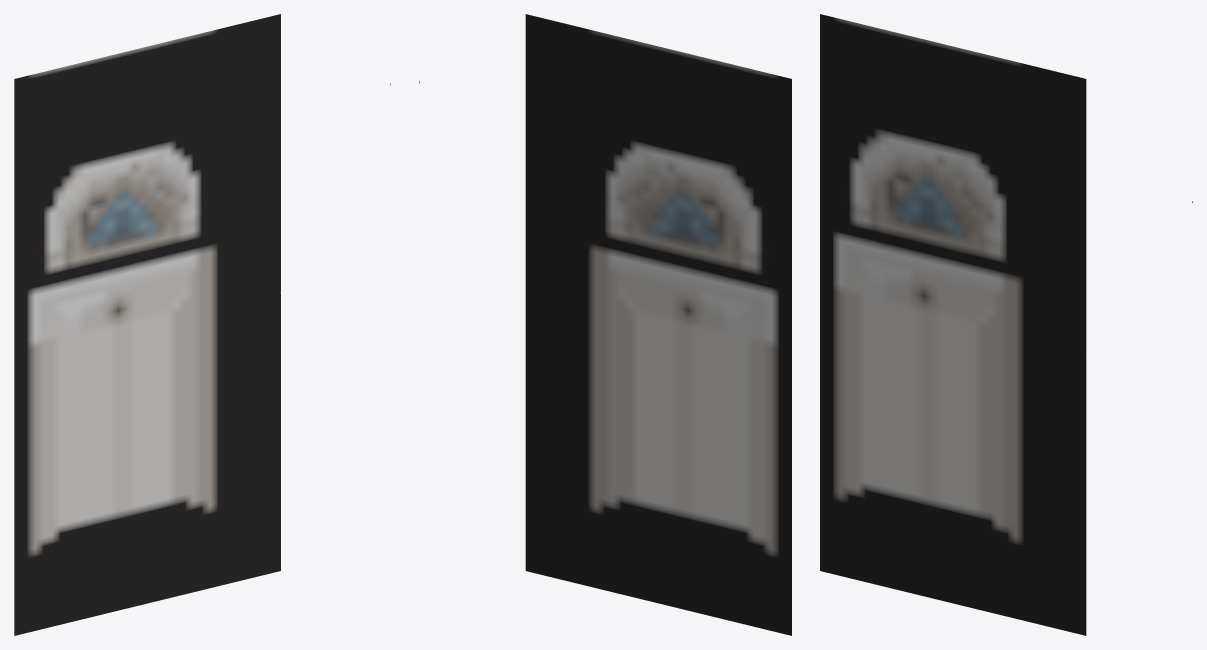
Rendered from Toilet_Up.glb.
The picture shows the model from 3 angles, left to right: view 1: azimuth 30°, elevation 25°; view 2: azimuth 150°, elevation 25°; view 3: azimuth 330°, elevation 25°; orthographic projection.
Parts seen in each view (by area): view 1: pPlane1; view 2: pPlane1; view 3: pPlane1.
Boxes of the visible parts, bbox=[...] form: pPlane1: bbox=[14, 14, 280, 635]; pPlane1: bbox=[525, 14, 791, 635]; pPlane1: bbox=[820, 14, 1086, 635].
Bounding box in the file's own units: 1.41 × 2 × 0.01.
Materials: 2 (2 with a texture image).
